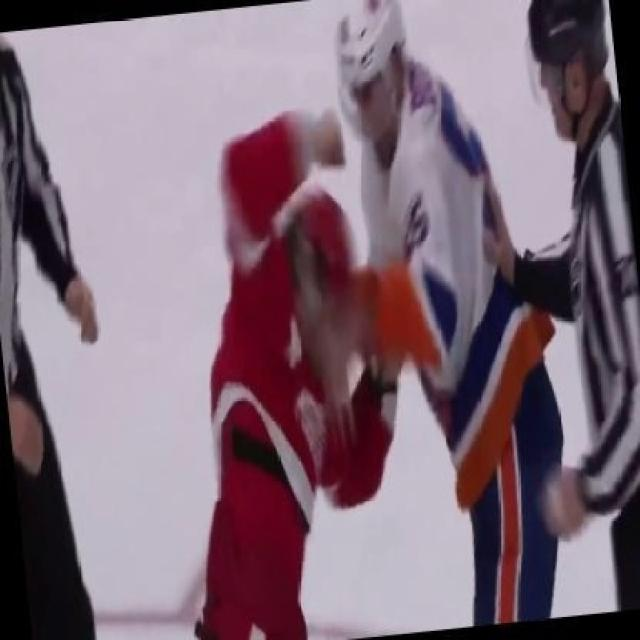fight: (180, 0, 560, 638)
non-fight: (482, 0, 640, 640)
